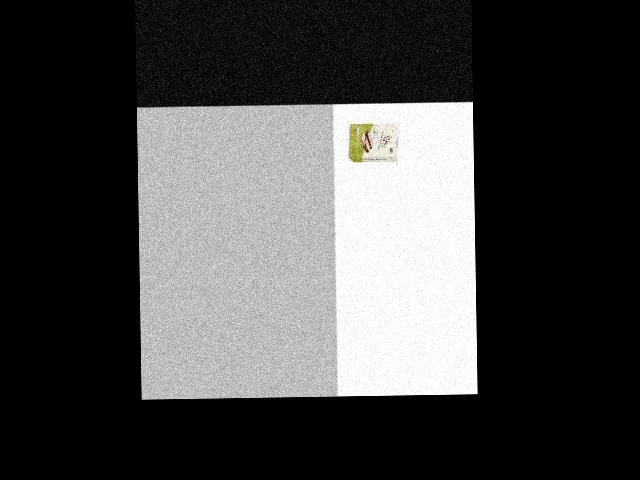chocolate: (347, 122, 399, 165)
